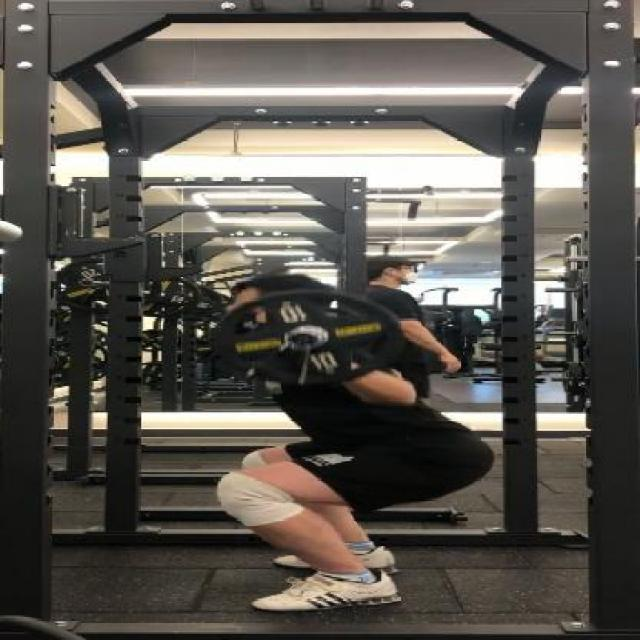Barbell: (278, 324, 331, 350)
